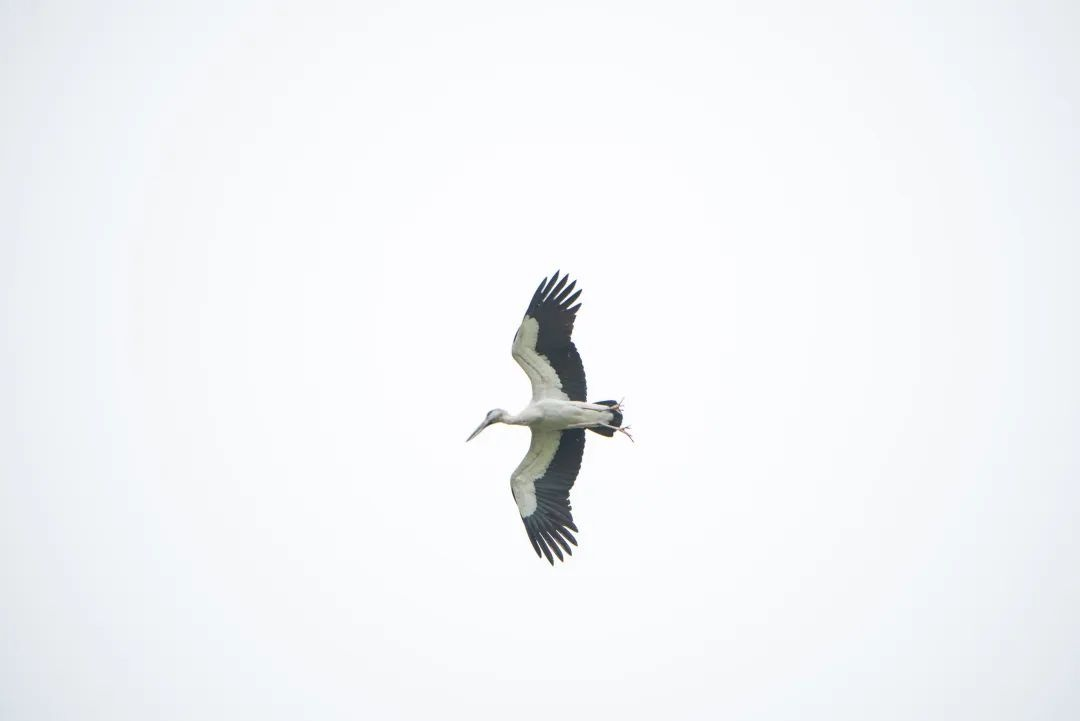bird: (472, 271, 627, 567)
